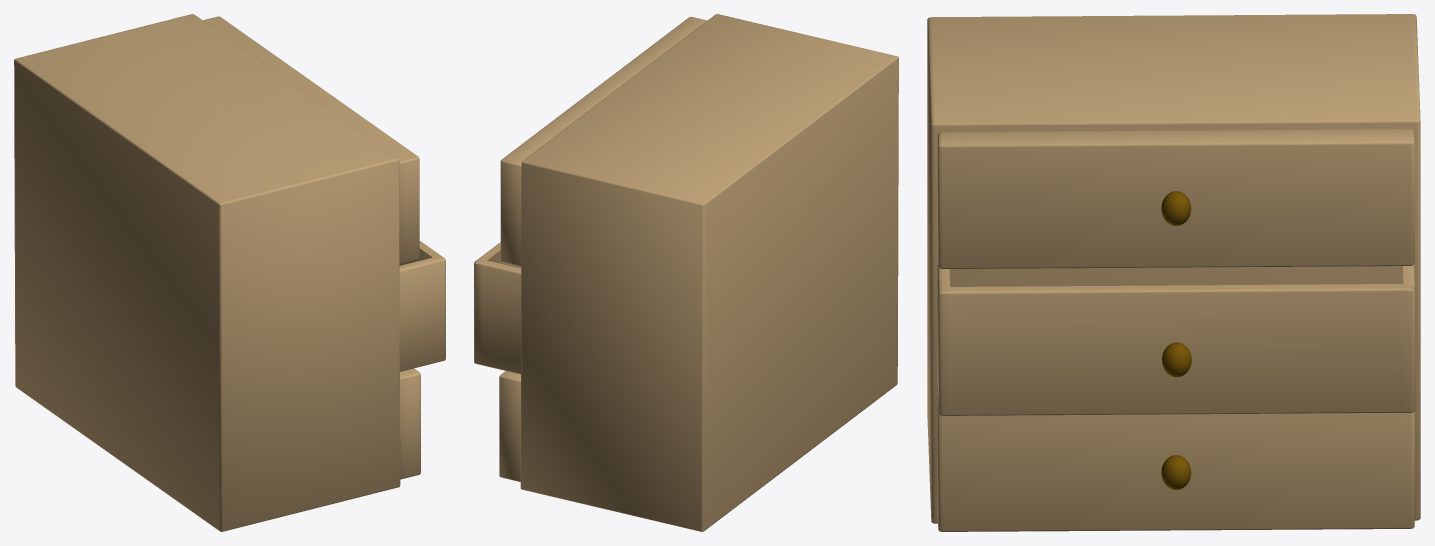
Rendered from nightstand_LOD0.fbx.
3 renders of one model, left to right at view 1: azimuth 30°, elevation 25°; view 2: azimuth 150°, elevation 25°; view 3: azimuth 270°, elevation 25°, orthographic. The views are drawn at different scales.
Parts seen in each view (by area): view 1: nightstand; view 2: nightstand; view 3: nightstand.
Boxes of the visible parts, left/top/right/bottom form: nightstand: left=14, top=14, right=445, bottom=531; nightstand: left=474, top=14, right=898, bottom=531; nightstand: left=927, top=14, right=1420, bottom=531.
Bounding box in the file's own units: 197 × 243 × 271.
